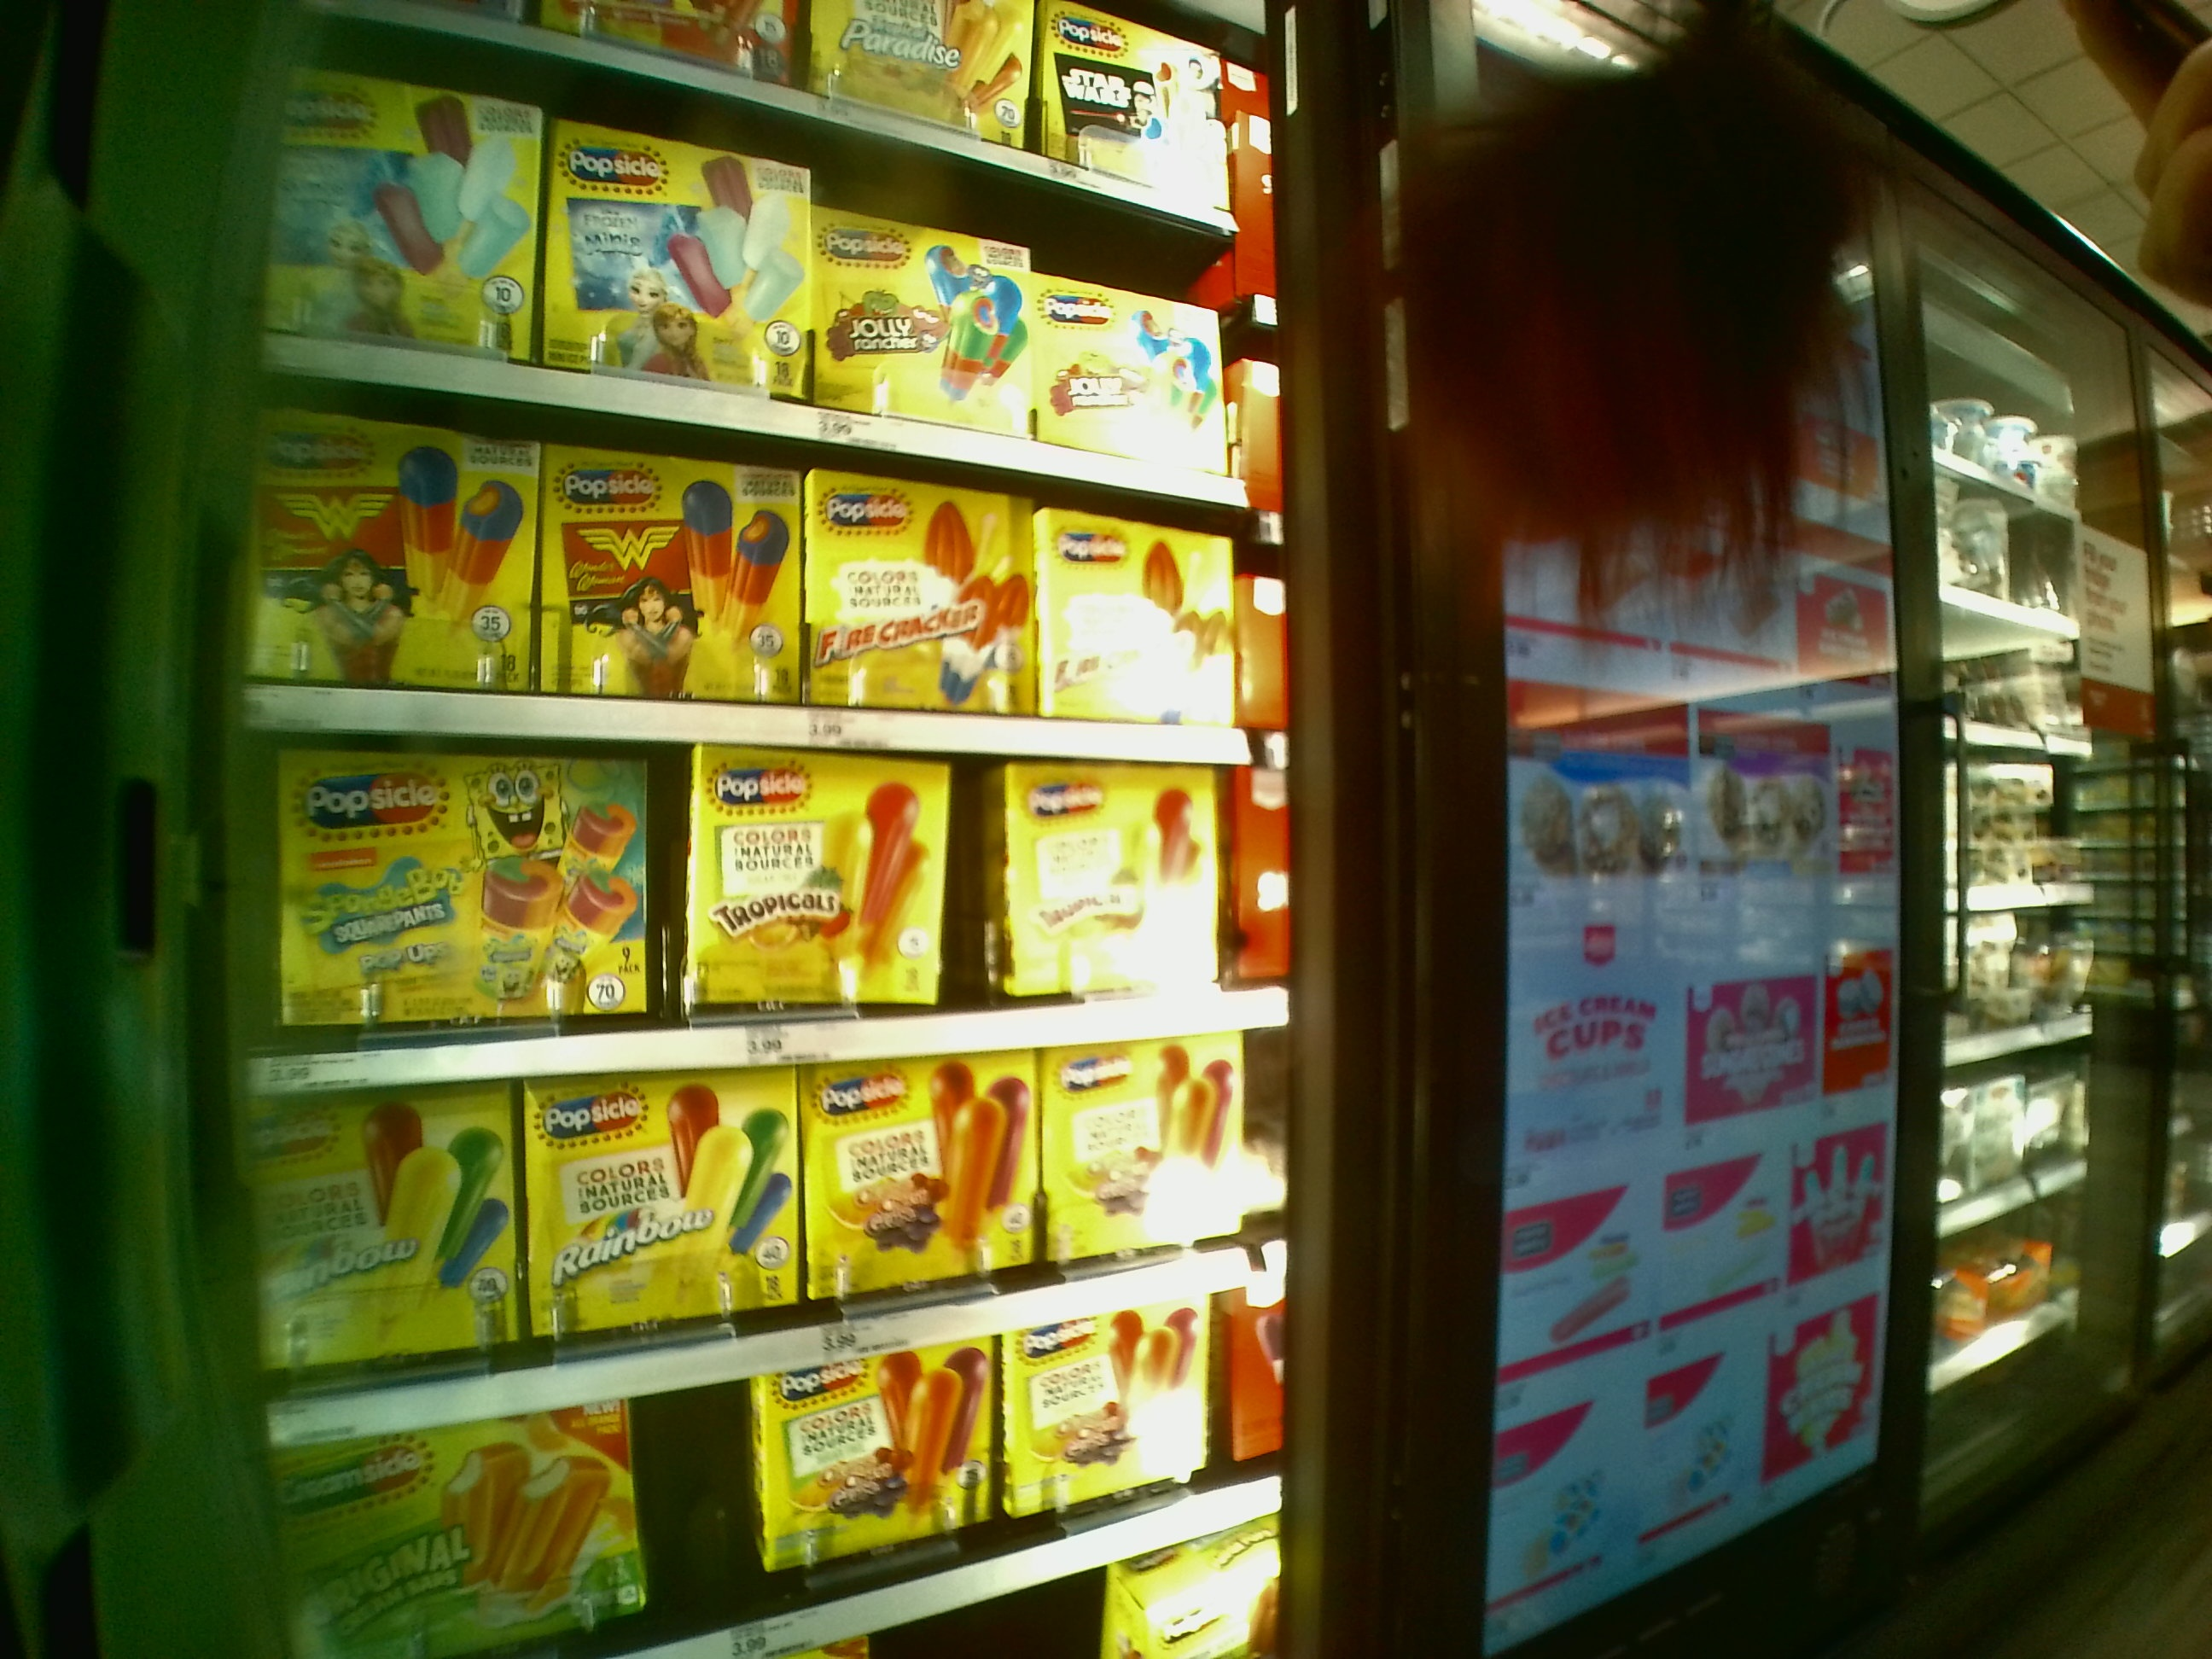shelf: (237, 737, 1292, 1047), (256, 1054, 1296, 1352), (254, 448, 1271, 751), (270, 1340, 1301, 1596)
